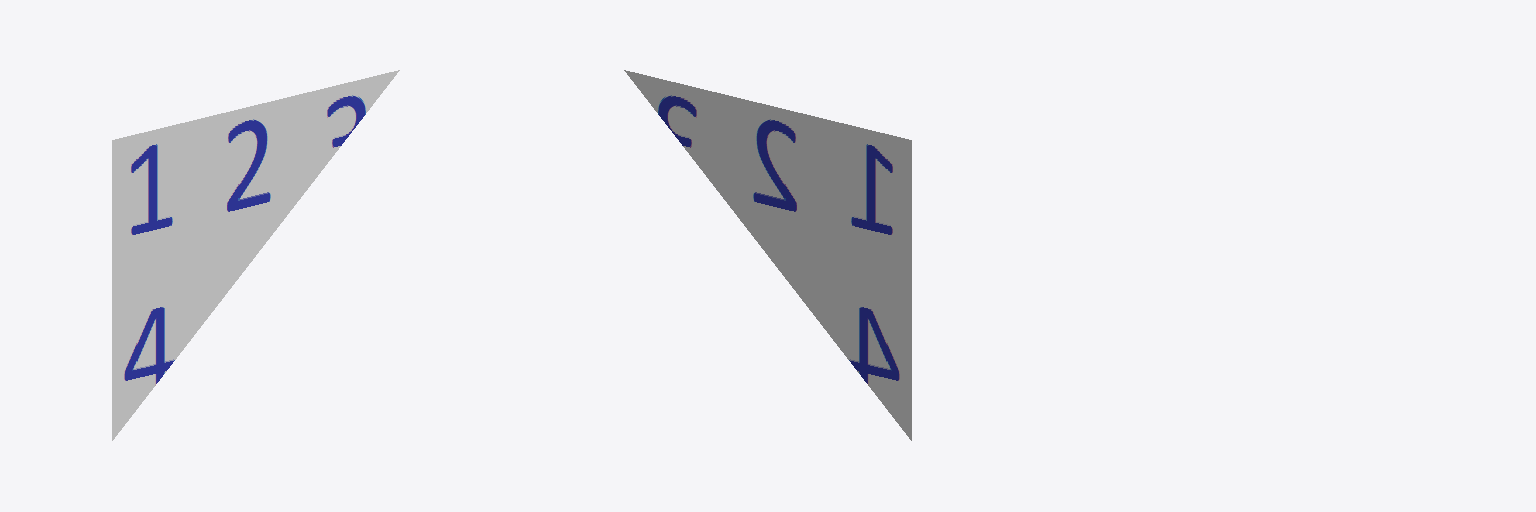
3 renders of one model, left to right at view 1: azimuth 30°, elevation 25°; view 2: azimuth 150°, elevation 25°; view 3: azimuth 270°, elevation 25°, orthographic.
Size of the model in its own units: 1 by 1 by 0.
2 materials, 2 textured.